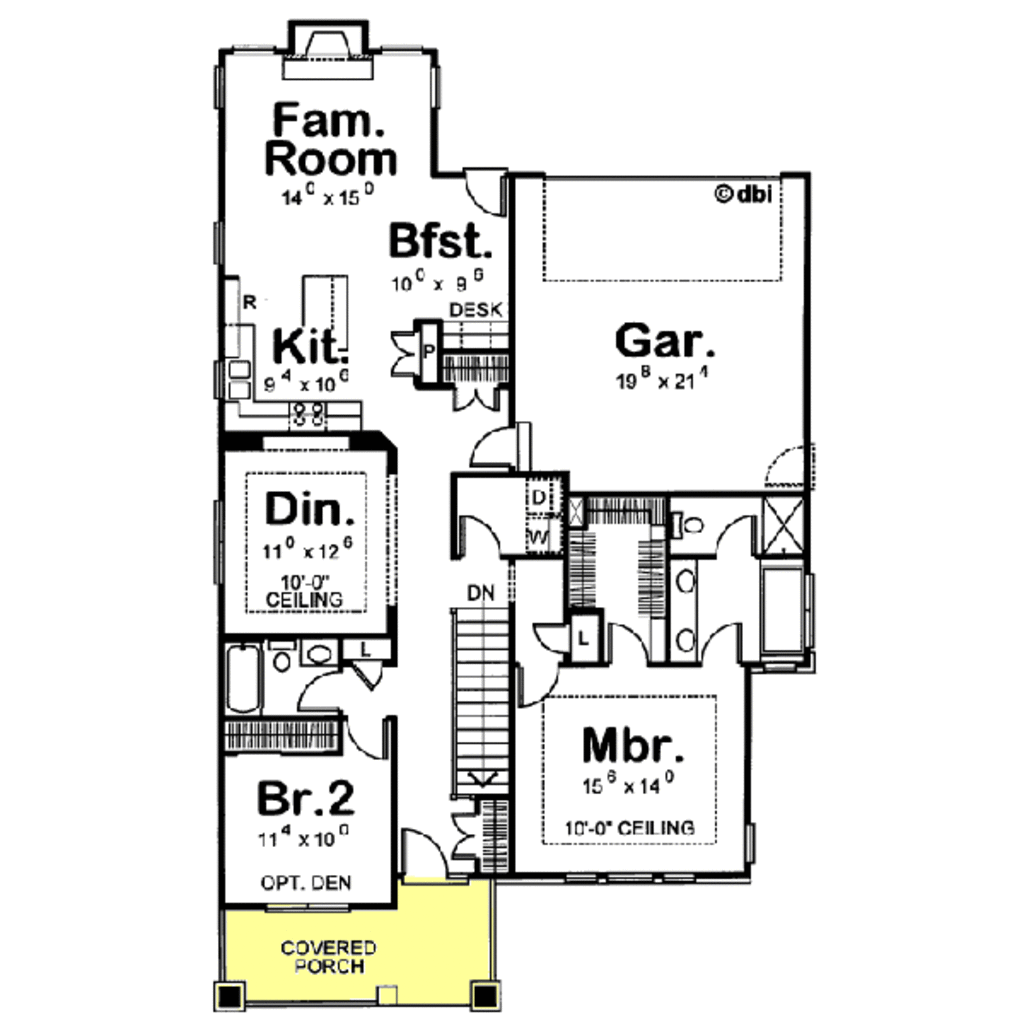door: (463, 416, 548, 474), (394, 828, 453, 884), (457, 163, 510, 223), (388, 325, 433, 393), (763, 443, 822, 490), (704, 621, 754, 675), (339, 714, 391, 764), (709, 505, 755, 561), (454, 514, 511, 558), (510, 659, 561, 708), (449, 802, 488, 860), (525, 615, 572, 661), (608, 619, 648, 670), (336, 656, 391, 690), (299, 671, 347, 707), (450, 383, 497, 412)
kitchen_bar: (285, 264, 358, 392)
large_sink: (664, 500, 714, 555), (262, 631, 303, 674)
small_sink: (670, 559, 702, 663), (295, 632, 345, 662)
stairs: (448, 612, 521, 823)
tub: (230, 636, 263, 717)
twin_sink: (214, 357, 267, 407)
window: (208, 497, 241, 587), (561, 866, 695, 887), (741, 812, 774, 877), (266, 893, 357, 914)
